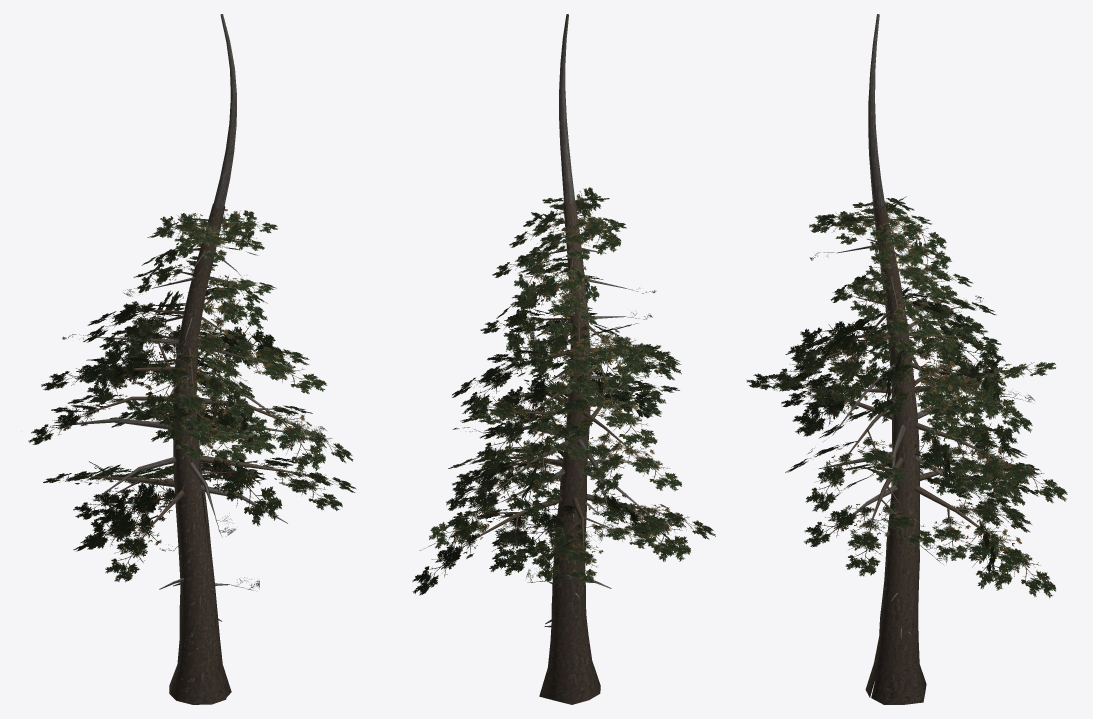
The model's file is tree_v6_pine_mangy_broken_summer.glb.
3 renders of one model, left to right at view 1: azimuth 30°, elevation 25°; view 2: azimuth 150°, elevation 25°; view 3: azimuth 270°, elevation 25°, orthographic. The views are drawn at different scales.
Visible parts, largest first — view 1: tree_v6_pine_mangy_broken_summer_LOD0; view 2: tree_v6_pine_mangy_broken_summer_LOD0; view 3: tree_v6_pine_mangy_broken_summer_LOD0.
Boxes of the visible parts, x1=… form: tree_v6_pine_mangy_broken_summer_LOD0: x1=28, y1=14, x2=356, y2=704; tree_v6_pine_mangy_broken_summer_LOD0: x1=412, y1=14, x2=715, y2=704; tree_v6_pine_mangy_broken_summer_LOD0: x1=746, y1=14, x2=1067, y2=704.
Size of what is drawn, in the model's own units: 5.43 by 12.18 by 5.37.
Materials: 1 (1 with a texture image).
